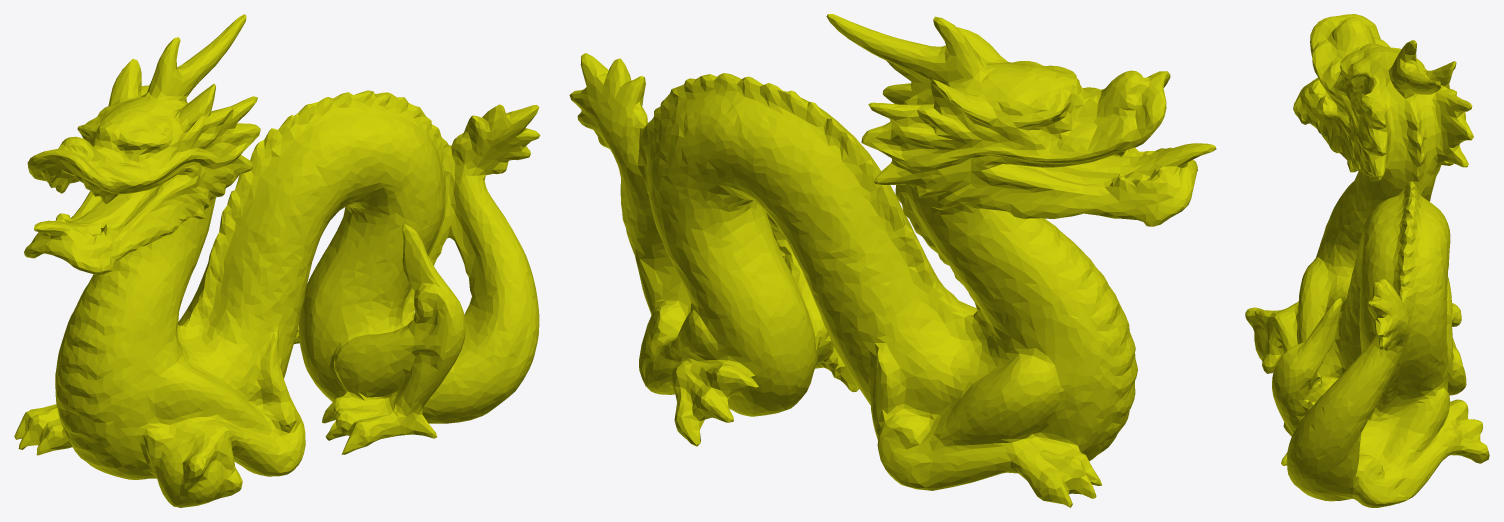
File: bunnyB.obj
3 views of the same model, side by side, from view 1: azimuth 30°, elevation 25°; view 2: azimuth 150°, elevation 25°; view 3: azimuth 270°, elevation 25° (orthographic). The views are drawn at different scales.
Parts seen in each view (by area): view 1: dragon; view 2: dragon; view 3: dragon.
Part boxes in pixels (x1=…): dragon: x1=14, y1=14, x2=540, y2=507; dragon: x1=569, y1=14, x2=1216, y2=507; dragon: x1=1245, y1=14, x2=1489, y2=507.
Bounding box in the file's own units: 10.4 × 7.34 × 4.64.
